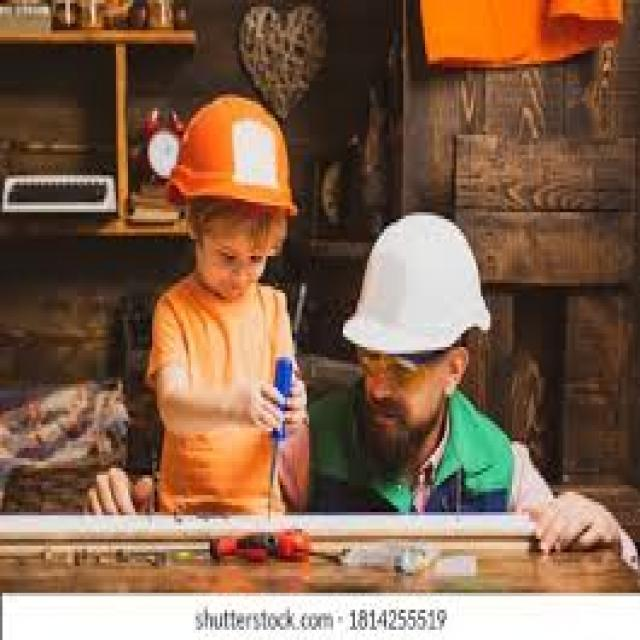screwdriver: (257, 352, 303, 537)
